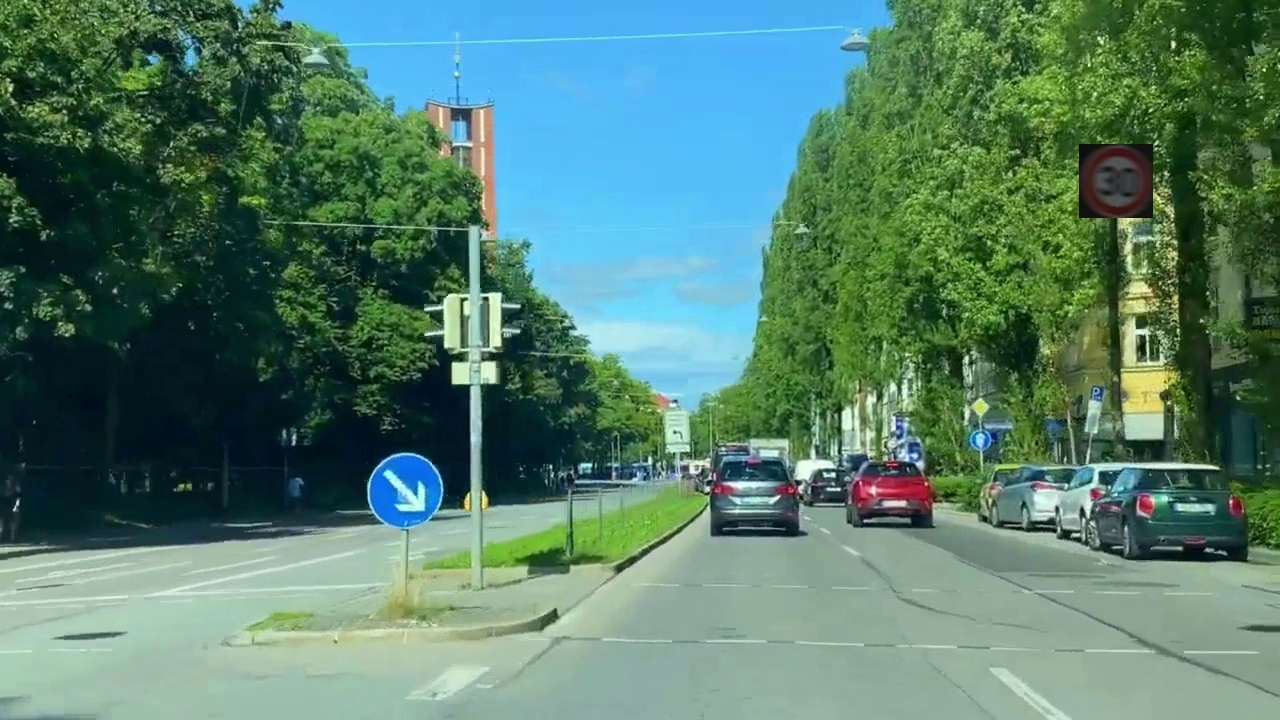Speed 30: (1079, 144, 1153, 218)
